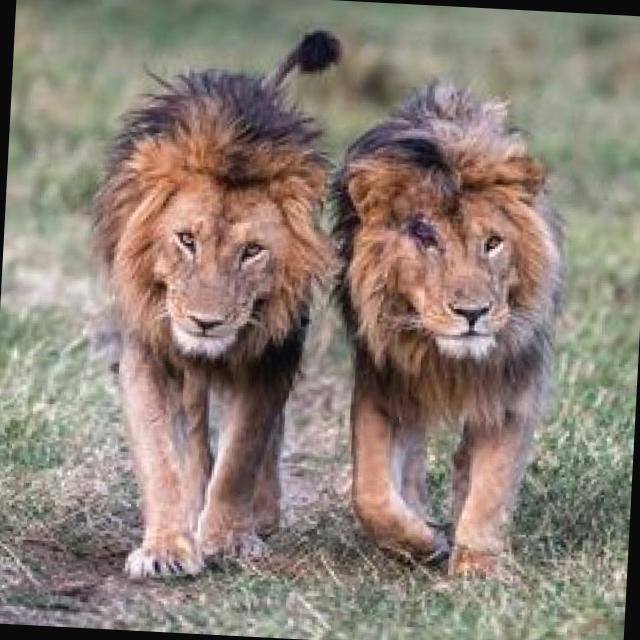lions: (320, 63, 619, 640), (50, 44, 347, 612)
